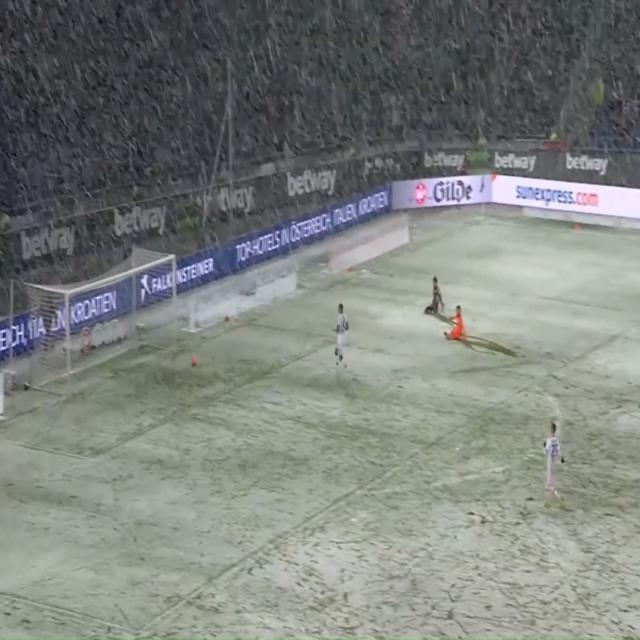ball: (189, 351, 199, 370)
goalkeeper: (443, 306, 473, 347)
player: (539, 410, 568, 513), (331, 301, 353, 374), (421, 271, 446, 321)
